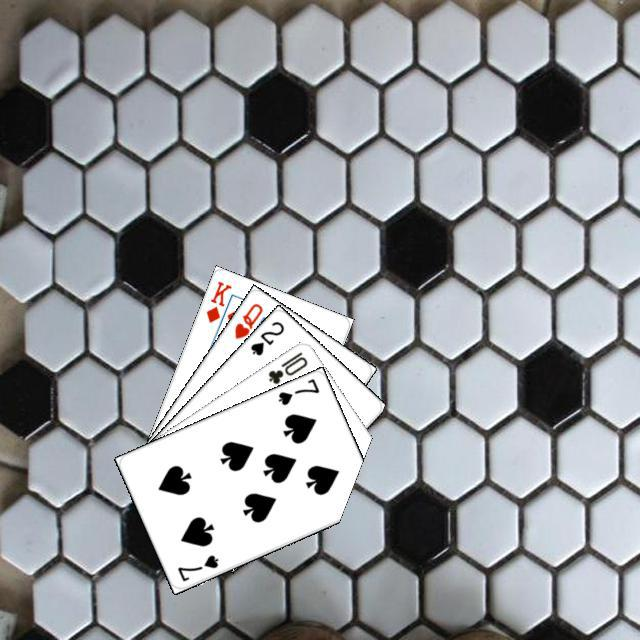10c: (263, 347, 309, 386)
2s: (245, 316, 286, 357)
7s: (273, 374, 321, 407), (172, 550, 220, 583)
Kd: (201, 276, 233, 325)
Qh: (229, 298, 264, 341)
